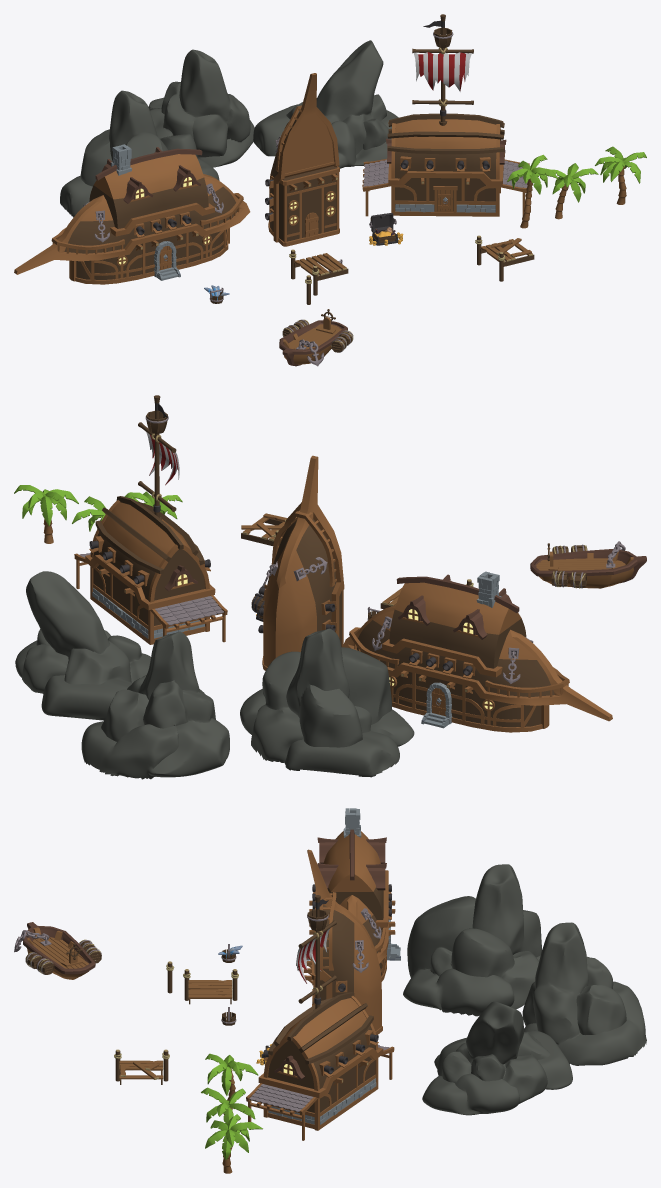
File: Restaurant.glb
3 views of the same model, one above another, from view 1: azimuth 30°, elevation 25°; view 2: azimuth 150°, elevation 25°; view 3: azimuth 270°, elevation 25° (orthographic). The views are drawn at different scales.
Visible parts, largest first — view 1: Environment_House1, Environment_House3, Environment_House2, Environment_Cliff4, Environment_Cliff3, Environment_Cliff2, Ship_Small, Environment_PalmTree_1, Environment_PalmTree_3, Environment_Dock, Environment_Dock_Broken, Environment_PalmTree_2 (+1 smaller); view 2: Environment_House1, Environment_Cliff2, Environment_House3, Environment_Cliff3, Environment_Cliff4, Environment_House2, Ship_Small, Environment_PalmTree_3, Environment_Dock_Broken; view 3: Environment_Cliff2, Environment_House3, Environment_Cliff3, Environment_Cliff4, Environment_House1, Environment_House2, Ship_Small, Environment_PalmTree_3, Environment_Dock, Environment_Dock_Broken, Environment_PalmTree_1, Environment_PalmTree_2.
Part boxes in pixels (left/top/right/bottom): Environment_House1: left=14, top=144, right=250, bottom=284; Environment_House3: left=362, top=14, right=529, bottom=216; Environment_House2: left=265, top=73, right=339, bottom=246; Environment_Cliff4: left=253, top=40, right=398, bottom=168; Environment_Cliff3: left=148, top=49, right=254, bottom=167; Environment_Cliff2: left=60, top=90, right=219, bottom=217; Ship_Small: left=279, top=309, right=353, bottom=366; Environment_PalmTree_1: left=507, top=154, right=558, bottom=228; Environment_PalmTree_3: left=595, top=146, right=646, bottom=204; Environment_Dock: left=289, top=249, right=348, bottom=295; Environment_Dock_Broken: left=475, top=235, right=534, bottom=281; Environment_PalmTree_2: left=545, top=163, right=598, bottom=219; Environment_House1: left=342, top=571, right=612, bottom=732; Environment_Cliff2: left=240, top=628, right=414, bottom=777; Environment_House3: left=74, top=395, right=227, bottom=644; Environment_Cliff3: left=81, top=631, right=229, bottom=779; Environment_Cliff4: left=15, top=571, right=150, bottom=720; Environment_House2: left=258, top=455, right=344, bottom=670; Ship_Small: left=530, top=541, right=646, bottom=588; Environment_PalmTree_3: left=14, top=485, right=78, bottom=543; Environment_Dock_Broken: left=241, top=513, right=287, bottom=545; Environment_Cliff2: left=403, top=864, right=541, bottom=1016; Environment_House3: left=246, top=895, right=394, bottom=1140; Environment_Cliff3: left=522, top=922, right=646, bottom=1065; Environment_Cliff4: left=422, top=1001, right=572, bottom=1115; Environment_House1: left=307, top=808, right=400, bottom=981; Environment_House2: left=303, top=849, right=382, bottom=1034; Ship_Small: left=14, top=922, right=101, bottom=979; Environment_PalmTree_3: left=205, top=1114, right=262, bottom=1173; Environment_Dock: left=183, top=969, right=238, bottom=1004; Environment_Dock_Broken: left=114, top=1049, right=169, bottom=1084; Environment_PalmTree_1: left=205, top=1053, right=258, bottom=1122; Environment_PalmTree_2: left=201, top=1087, right=255, bottom=1124.
Size of the model in its own units: 33.69 by 10.68 by 29.88.
Materials: 2 (1 with a texture image).
